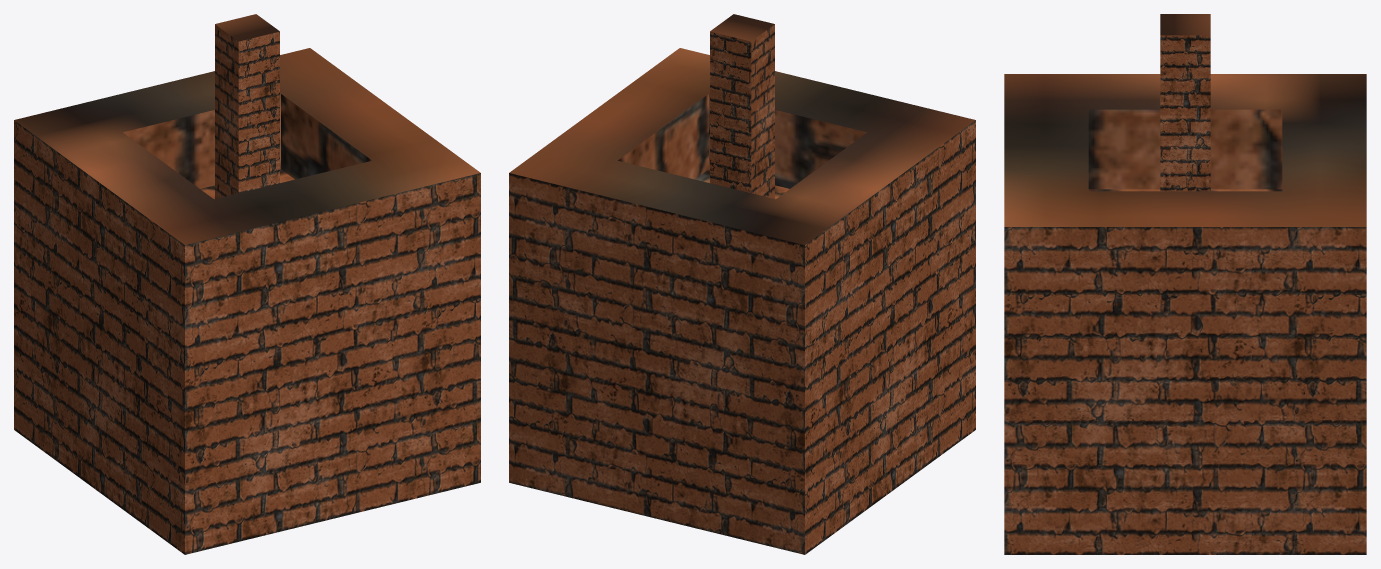
File: HIDEOUS1.fbx
The picture shows the model from 3 angles, left to right: view 1: azimuth 30°, elevation 25°; view 2: azimuth 150°, elevation 25°; view 3: azimuth 270°, elevation 25°; orthographic projection. The views are drawn at different scales.
Parts seen in each view (by area): view 1: Cube; view 2: Cube; view 3: Cube.
Boxes of the visible parts, x1,y1,x2,y2 form: Cube: [14, 14, 480, 554]; Cube: [509, 14, 975, 554]; Cube: [1004, 14, 1366, 554].
Bounding box in the file's own units: 2 × 2.77 × 2.
1 material, 1 textured.
